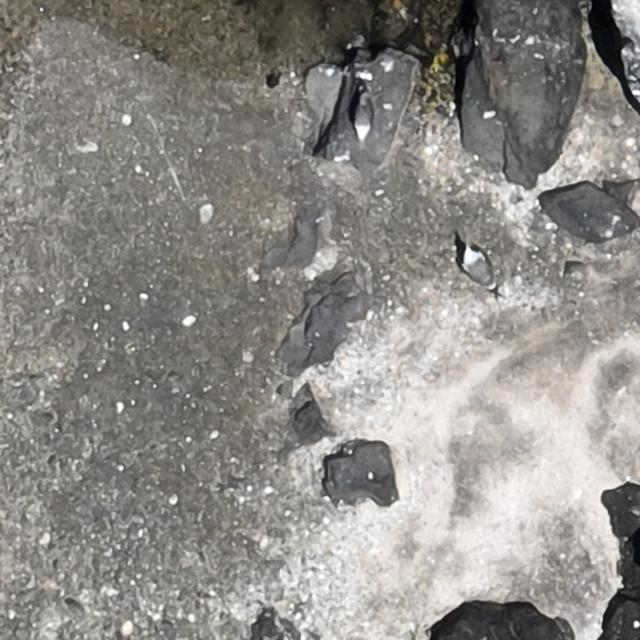umineko: (464, 247, 495, 293), (355, 103, 372, 137)
